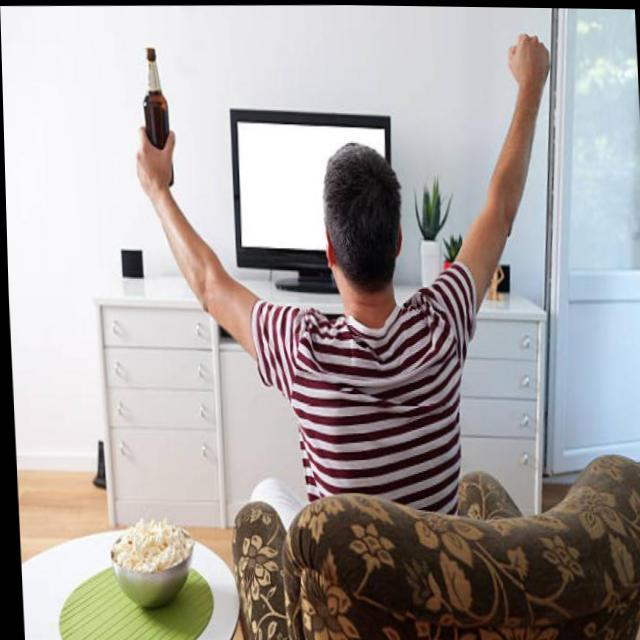no helmet: (304, 130, 417, 343)
